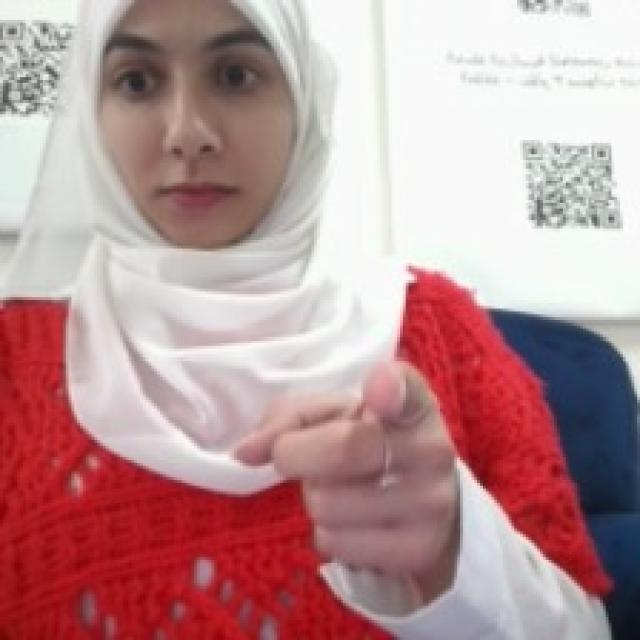you: (228, 348, 463, 583)
